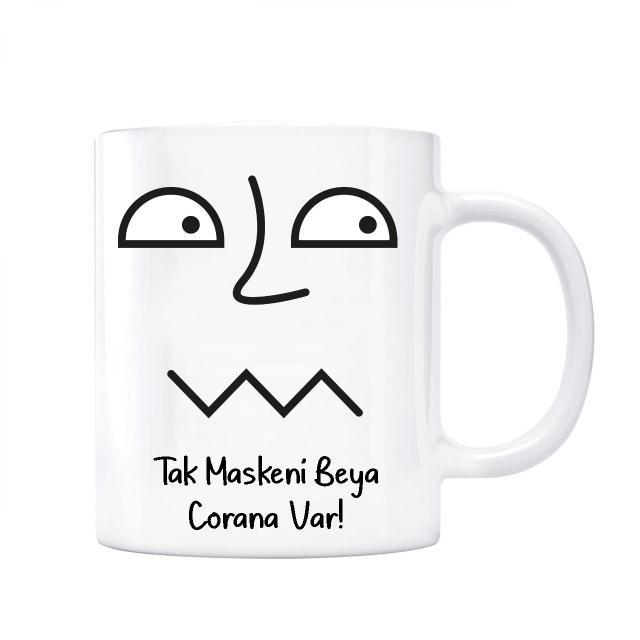Coffee Mug: (91, 126, 596, 562)
